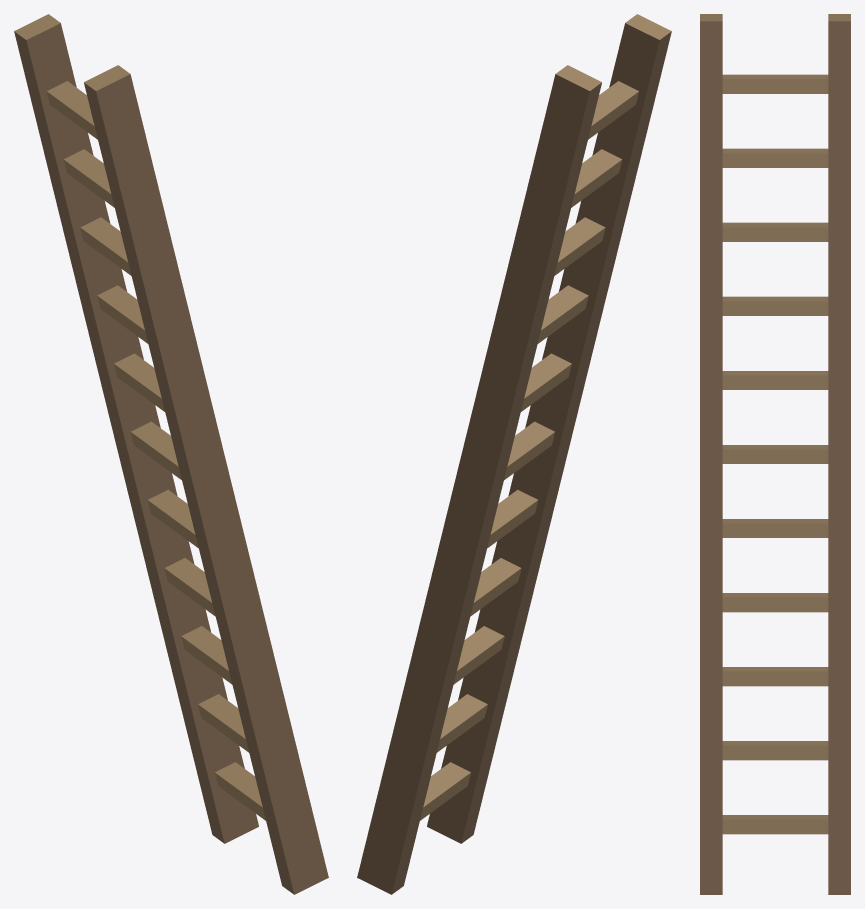
The model's file is Prop_Ladder_1.glb.
3 renders of one model, left to right at view 1: azimuth 30°, elevation 25°; view 2: azimuth 150°, elevation 25°; view 3: azimuth 270°, elevation 25°, orthographic. The views are drawn at different scales.
Visible parts, largest first — view 1: Prop_Ladder_1; view 2: Prop_Ladder_1; view 3: Prop_Ladder_1.
Boxes of the visible parts, left/top/right/bottom form: Prop_Ladder_1: left=14, top=14, right=328, bottom=894; Prop_Ladder_1: left=357, top=14, right=671, bottom=894; Prop_Ladder_1: left=700, top=14, right=850, bottom=894.
Bounding box in the file's own units: 1.11 × 3.93 × 0.678.
